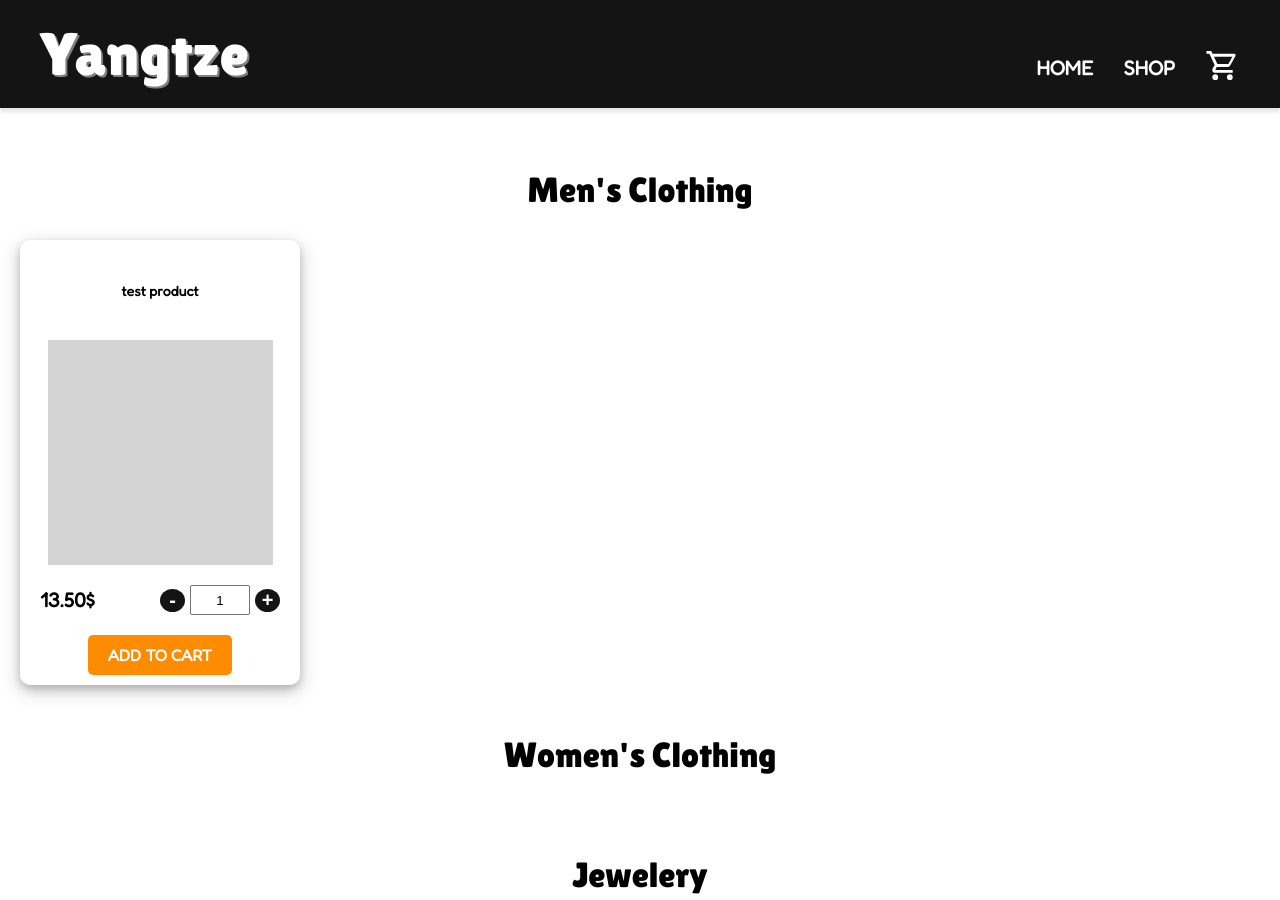
Scenario: App component › adds item to cart
What coordinates should you click on to do the following:
click the button "ADD TO CART"
I would click on:
 (160, 655)
Its box is [88,635,232,675].
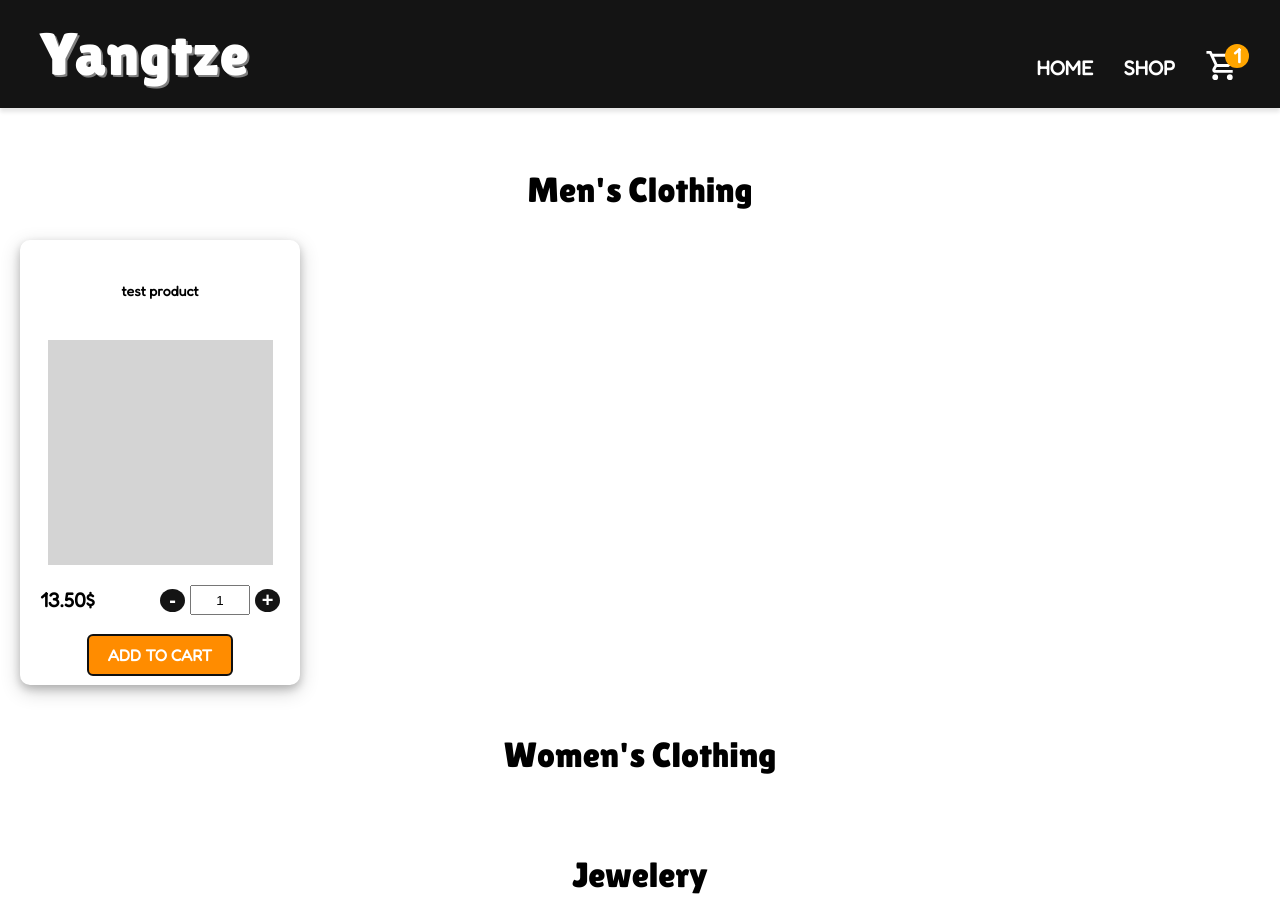
Expected: the text "1" is shown, [1225,44,1249,68]
What coordinates should you click on to do the following:
click the button "ADD TO CART"
I would click on:
 (160, 655)
Its box is [88,635,232,675].
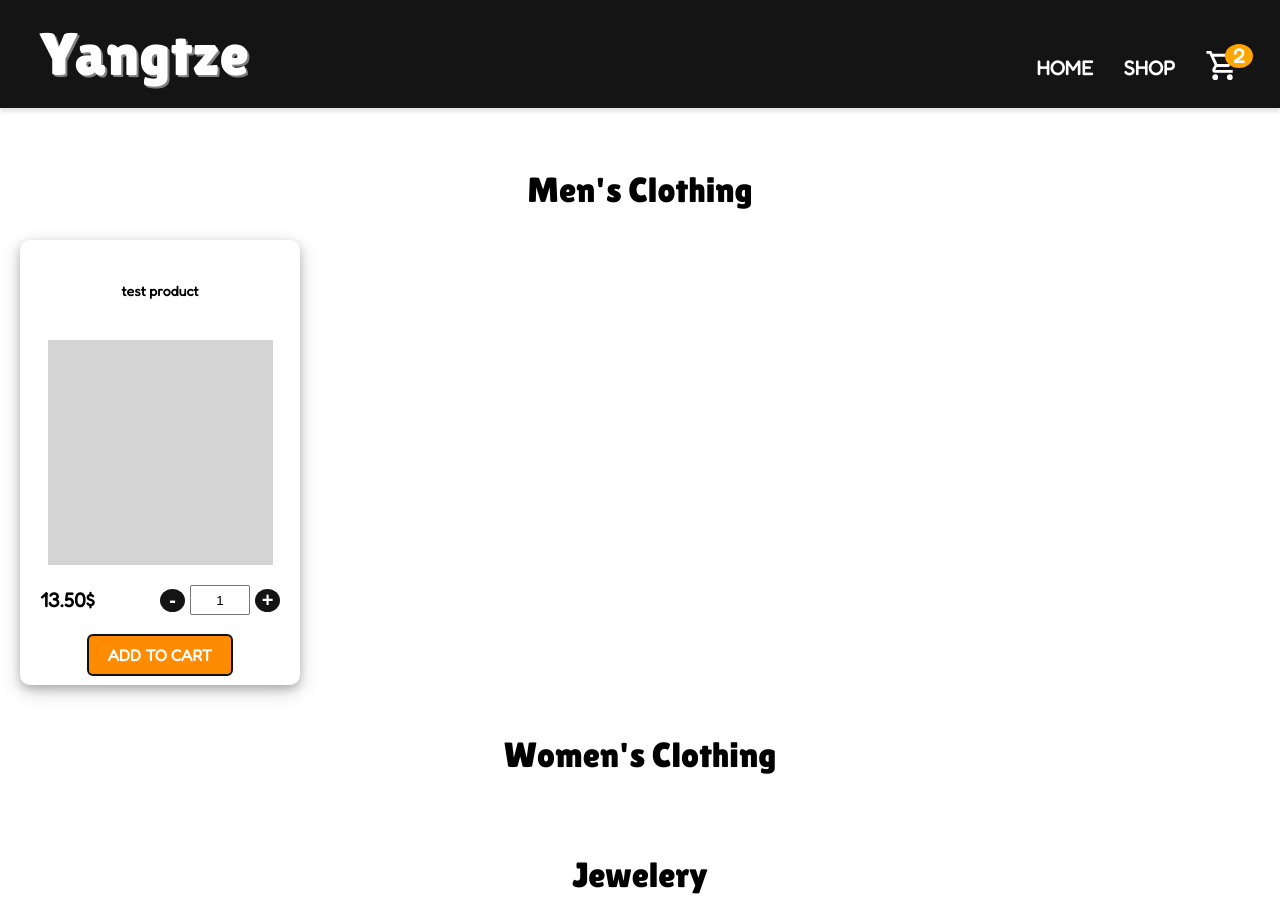
What coordinates should you click on to do the following:
click the button "ADD TO CART"
I would click on:
 (160, 655)
Its box is [88,635,232,675].
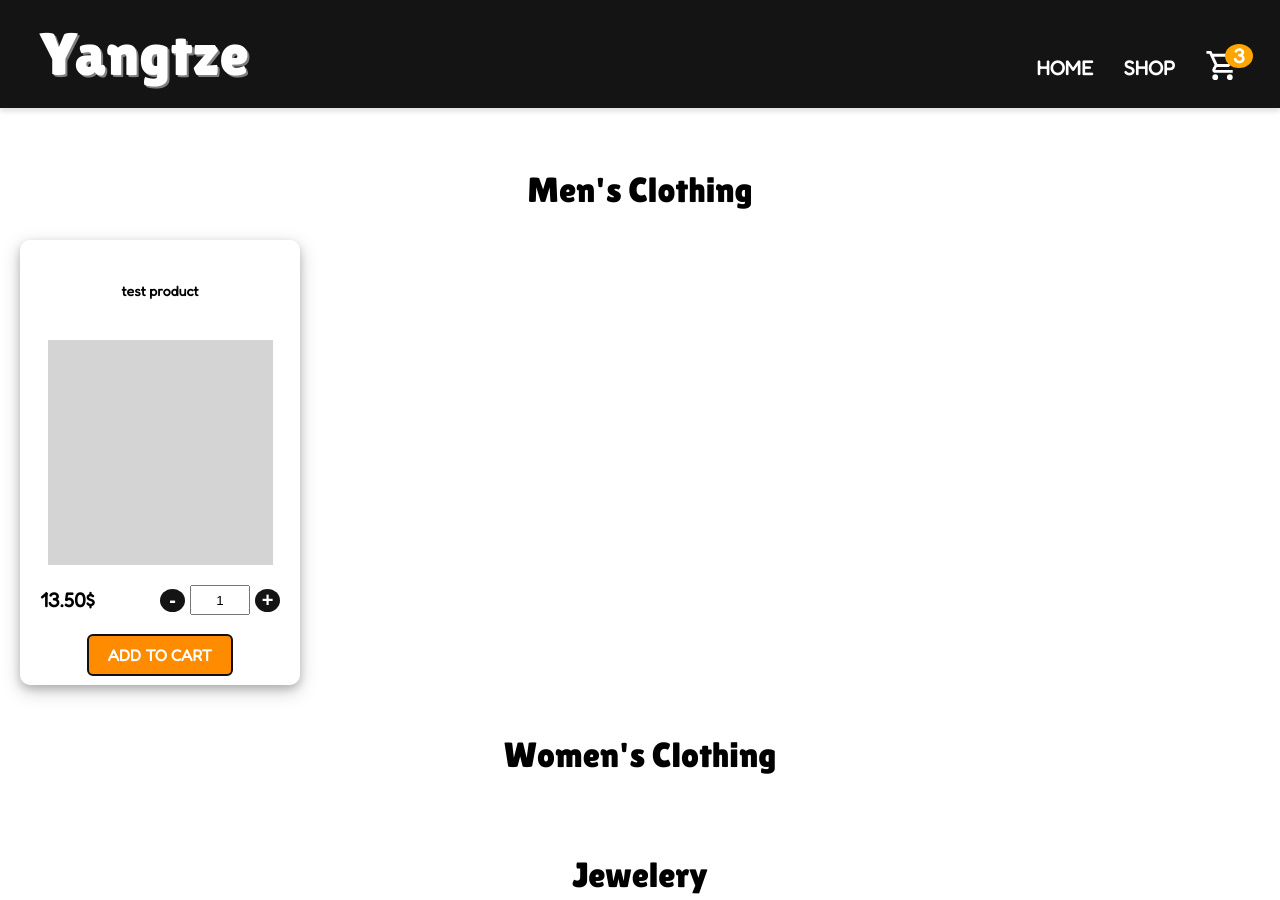
Expected: the text "3" is shown, [1225,44,1253,68]
